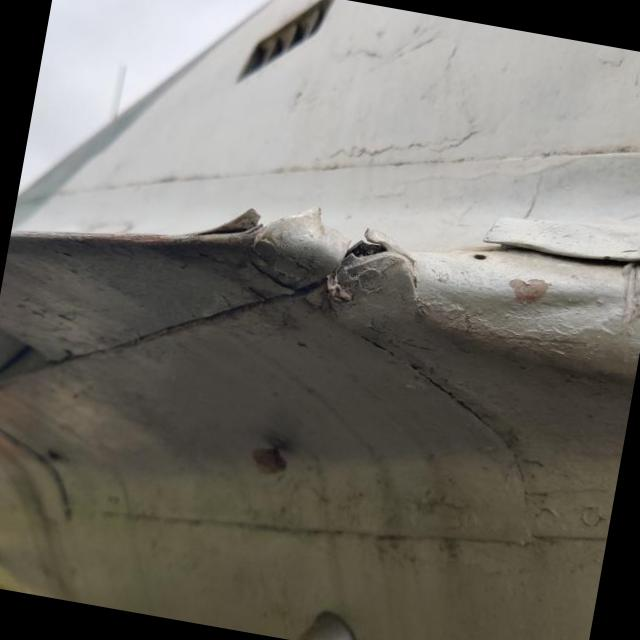Crack: (339, 227, 404, 275), (196, 208, 259, 234)
